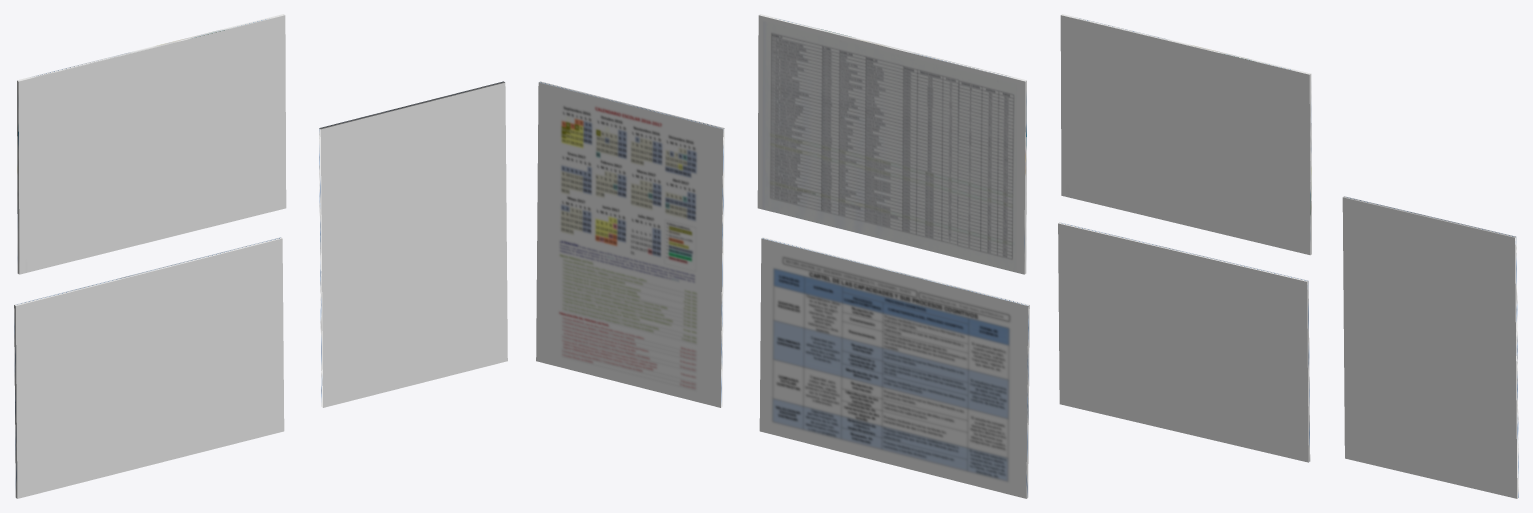
Rendered from Information.FBX.
3 views of the same model, side by side, from view 1: azimuth 30°, elevation 25°; view 2: azimuth 150°, elevation 25°; view 3: azimuth 330°, elevation 25° (orthographic). The views are drawn at different scales.
Parts seen in each view (by area): view 1: Information; view 2: Information; view 3: Information.
Part boxes in pixels (x1,y1,x2,y2): Information: (14,14,507,498); Information: (536,14,1029,498); Information: (1058,14,1518,498).
Size of the model in its own units: 117 by 94.68 by 0.6969.
